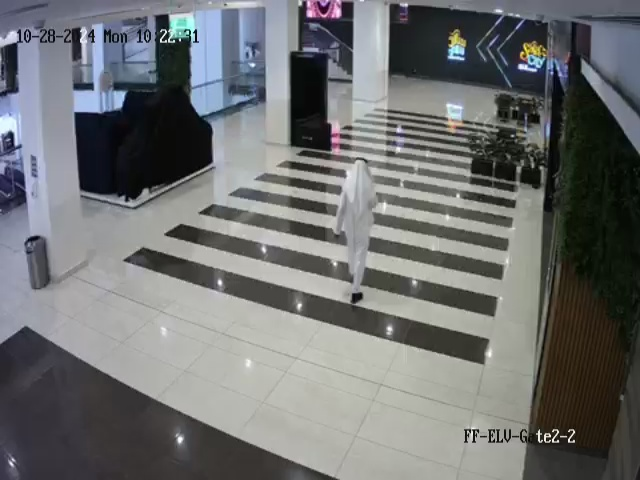male: (325, 150, 387, 312)
